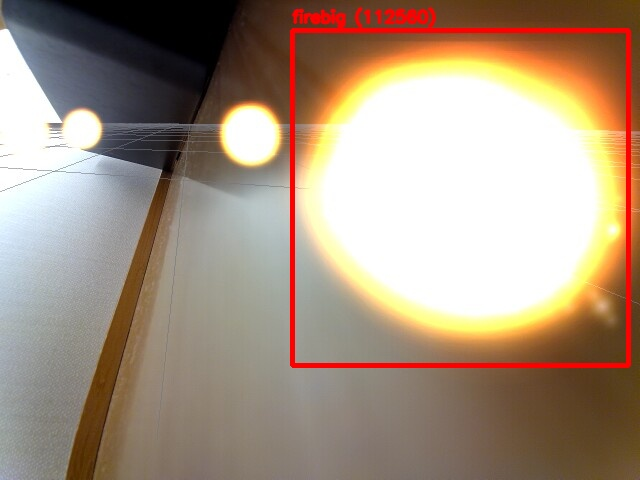firebig: (292, 30, 628, 365)
